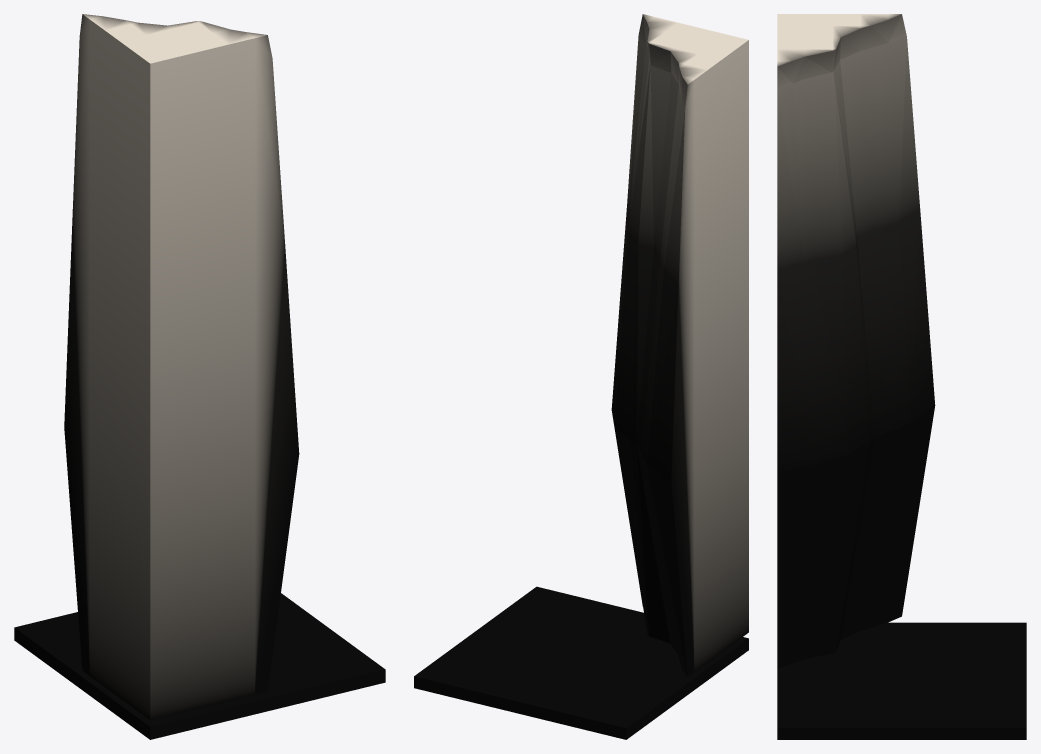
The model's file is SM_VKI_Ground_Cave_OXXX_Q11.fbx.
3 renders of one model, left to right at view 1: azimuth 30°, elevation 25°; view 2: azimuth 150°, elevation 25°; view 3: azimuth 270°, elevation 25°, orthographic. The views are drawn at different scales.
Parts seen in each view (by area): view 1: SM_VKI_Ground_Cave_OXXX_Q11.001; view 2: SM_VKI_Ground_Cave_OXXX_Q11.001; view 3: SM_VKI_Ground_Cave_OXXX_Q11.001.
Boxes of the visible parts, x1,y1,x2,y2 form: SM_VKI_Ground_Cave_OXXX_Q11.001: (14,14,385,739); SM_VKI_Ground_Cave_OXXX_Q11.001: (414,14,748,739); SM_VKI_Ground_Cave_OXXX_Q11.001: (777,14,1026,739).
Bounding box in the file's own units: 1.5 × 4.12 × 1.5.
